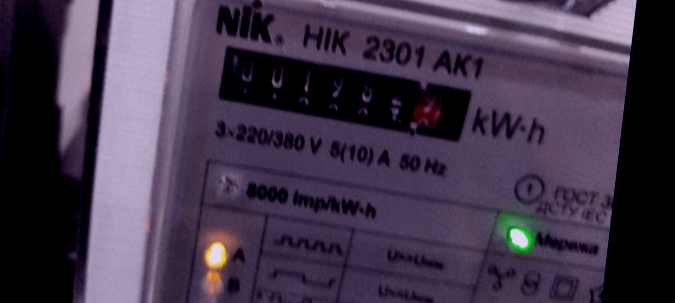0: (268, 62, 288, 92), (238, 55, 257, 86)
1: (299, 65, 315, 95)
2: (388, 79, 410, 110)
8: (359, 76, 378, 106)
9: (419, 88, 442, 118), (328, 72, 346, 102)
screen: (199, 31, 489, 159)
